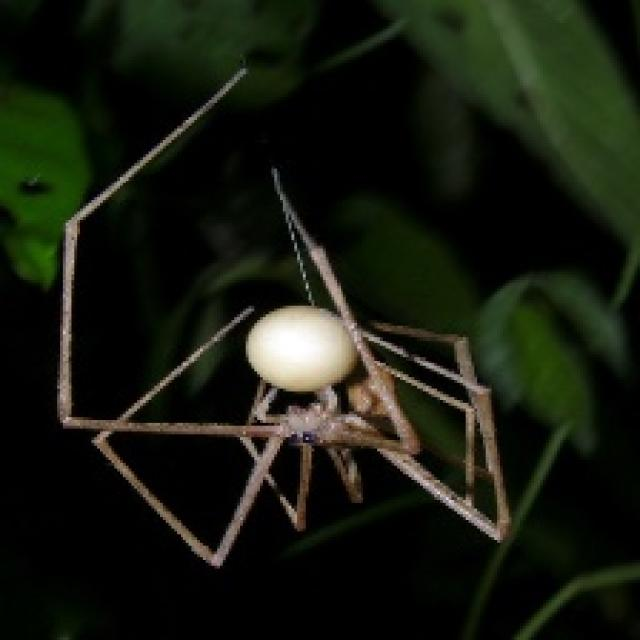Non venomous spider: (65, 54, 579, 572)
